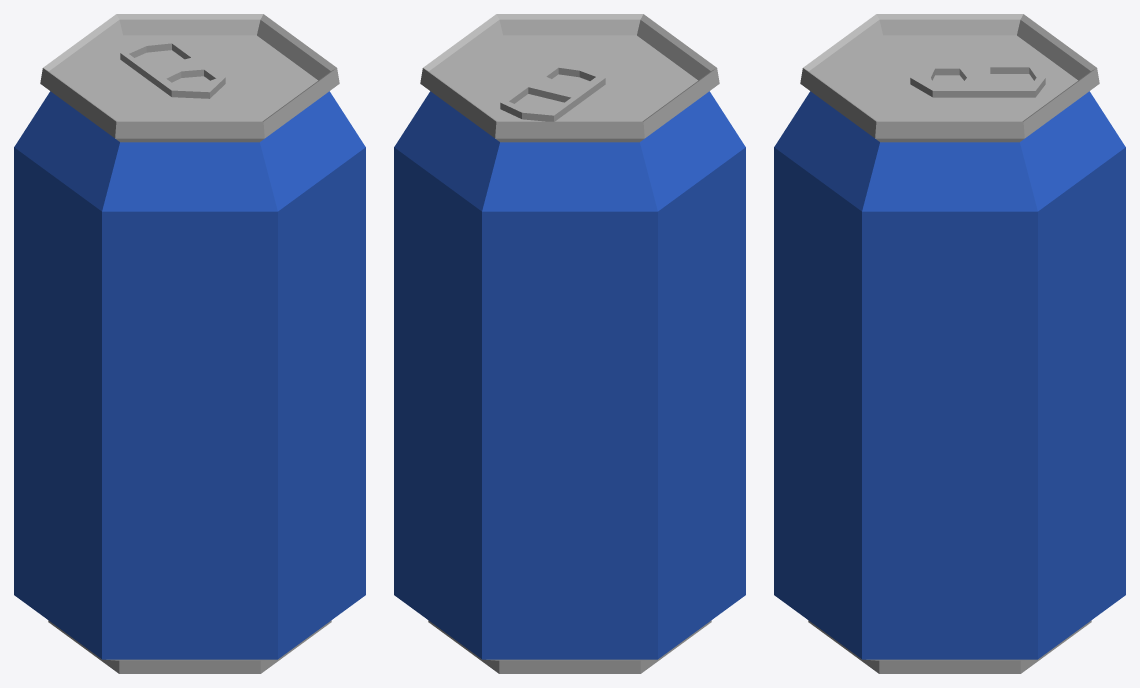
The model's file is BeverageCan1Blue.fbx.
3 views of the same model, side by side, from view 1: azimuth 30°, elevation 25°; view 2: azimuth 150°, elevation 25°; view 3: azimuth 270°, elevation 25° (orthographic).
Visible parts, largest first — view 1: Cylinder; view 2: Cylinder; view 3: Cylinder.
Part boxes in pixels (box(x1,y1,x2,y2)): Cylinder: box(14, 14, 365, 673); Cylinder: box(394, 14, 745, 673); Cylinder: box(774, 14, 1125, 673).
Bounding box in the file's own units: 0.1364 × 0.2738 × 0.1575.
